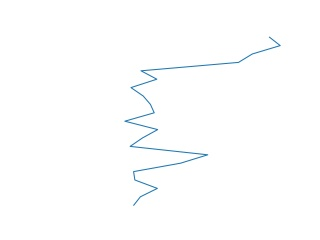crevasseRiverChannelBar: (118, 34, 286, 210)
